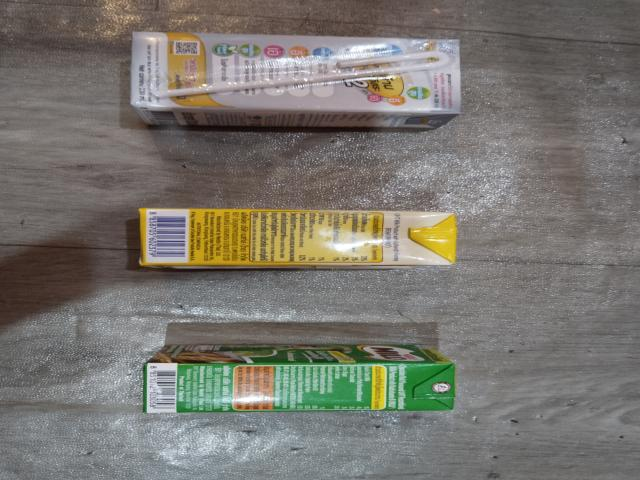drink_box: (130, 27, 478, 138), (132, 341, 477, 422), (124, 202, 466, 276)
